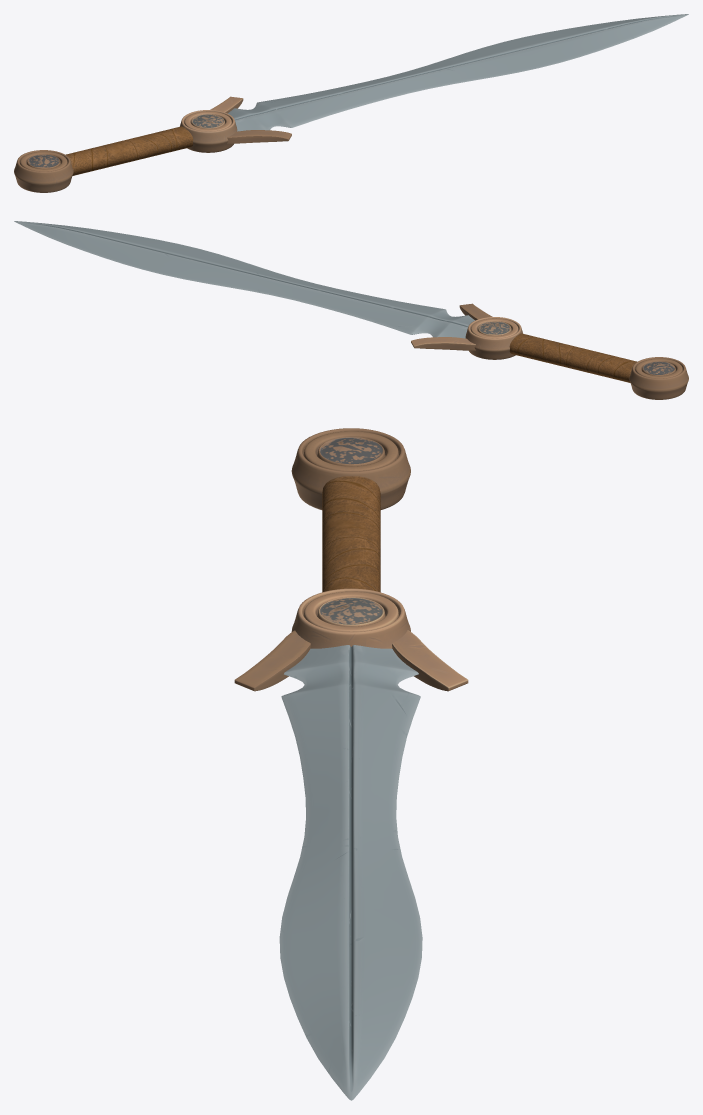
File: short_cooper_sword.glb
3 views of the same model, one above another, from view 1: azimuth 30°, elevation 25°; view 2: azimuth 150°, elevation 25°; view 3: azimuth 270°, elevation 25° (orthographic). The views are drawn at different scales.
Parts seen in each view (by area): view 1: ShortSword; view 2: ShortSword; view 3: ShortSword.
Part boxes in pixels (x1,y1,x2,y2): ShortSword: (14,14,688,192); ShortSword: (14,221,688,399); ShortSword: (234,428,468,1100).
Size of the model in its own units: 598 by 20.39 by 90.33.
1 material, 1 textured.
